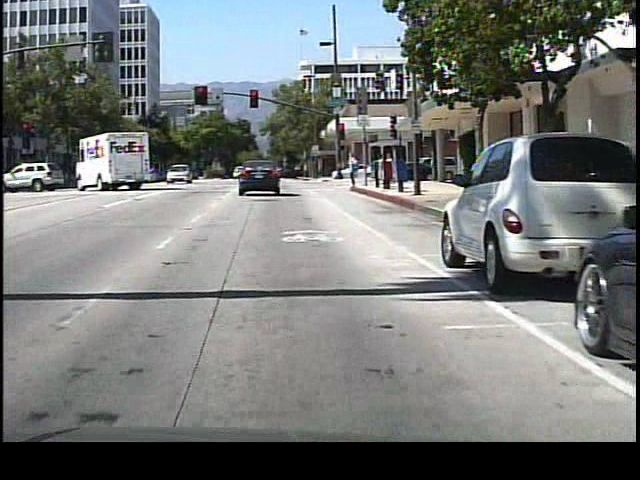person: (344, 150, 365, 193)
